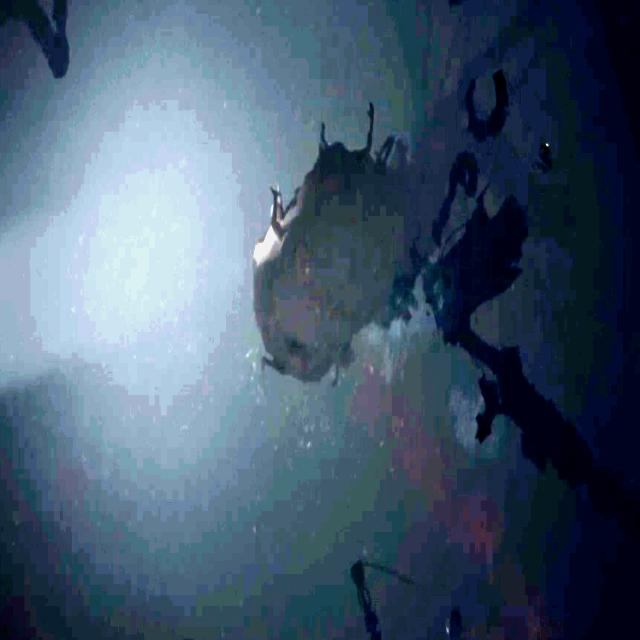blob: (253, 102, 432, 380)
interactible: (446, 603, 461, 640)
mechanism: (426, 191, 640, 585), (0, 0, 68, 85), (350, 557, 385, 640)
